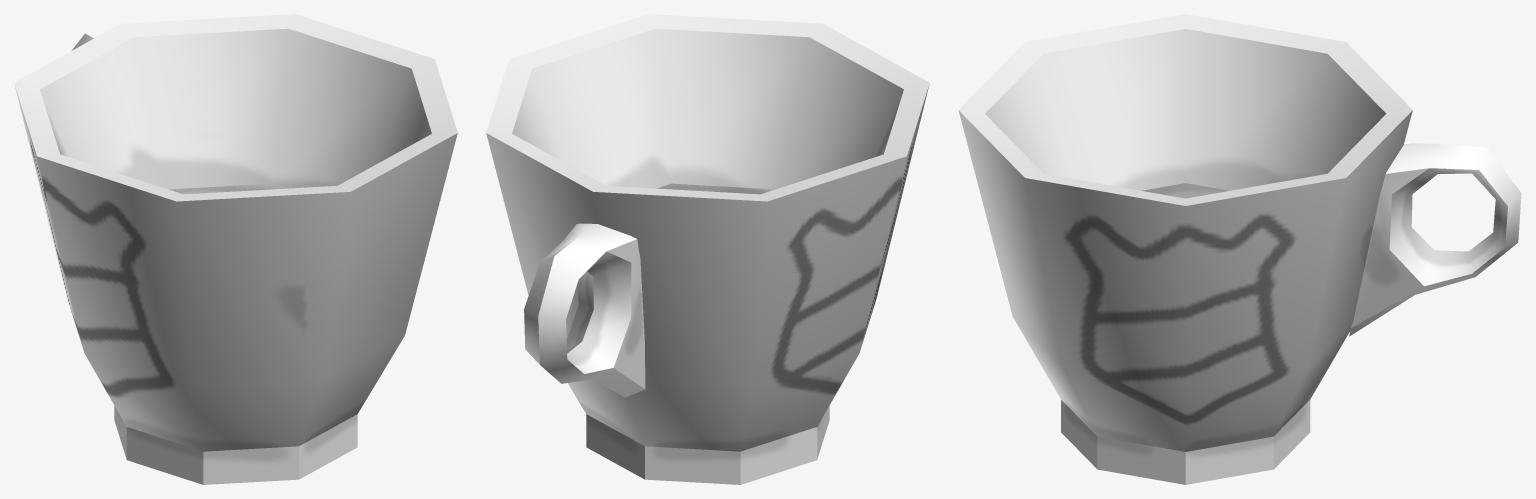
The model's file is obj_Teacup.fbx.
The picture shows the model from 3 angles, left to right: view 1: azimuth 30°, elevation 25°; view 2: azimuth 150°, elevation 25°; view 3: azimuth 270°, elevation 25°; orthographic projection.
Visible parts, largest first — view 1: obj_TeaCup; view 2: obj_TeaCup; view 3: obj_TeaCup.
Part boxes in pixels (x1=…): obj_TeaCup: x1=14, y1=14, x2=457, y2=484; obj_TeaCup: x1=486, y1=14, x2=929, y2=484; obj_TeaCup: x1=958, y1=14, x2=1521, y2=484.
Bounding box in the file's own units: 0.1218 × 0.0953 × 0.151.
Materials: 1 (1 with a texture image).
